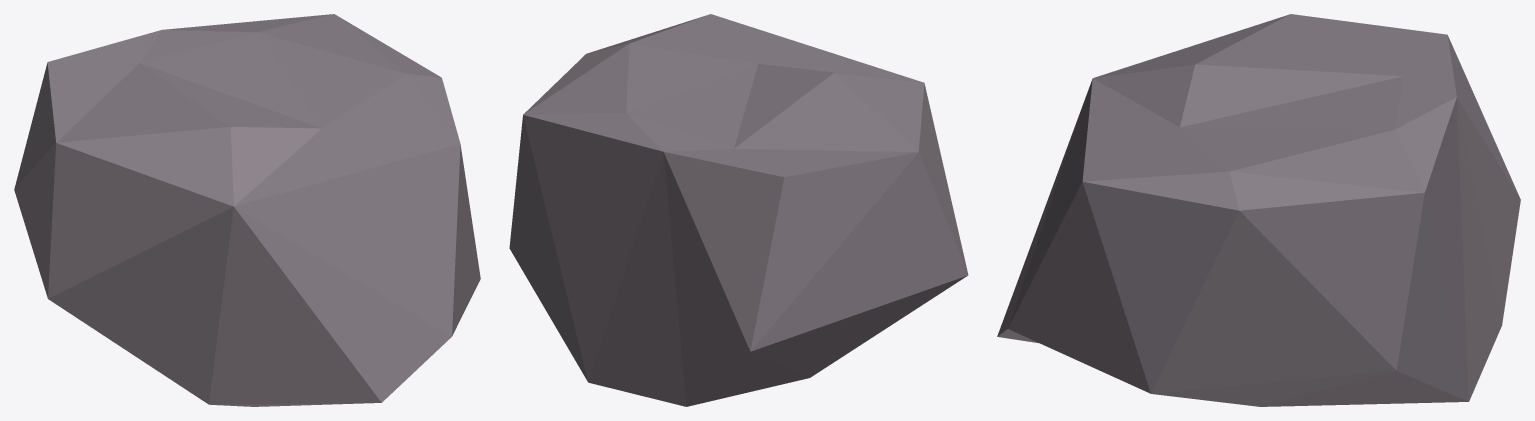
The model's file is rock1.glb.
3 renders of one model, left to right at view 1: azimuth 30°, elevation 25°; view 2: azimuth 150°, elevation 25°; view 3: azimuth 270°, elevation 25°, orthographic. The views are drawn at different scales.
Visible parts, largest first — view 1: rock1-col; view 2: rock1-col; view 3: rock1-col.
Part boxes in pixels (x1,y1,x2,y2): rock1-col: (14,14,480,406); rock1-col: (509,14,968,406); rock1-col: (997,14,1520,406).
Size of the model in its own units: 3.49 by 2.34 by 3.7.
1 material, 1 textured.
